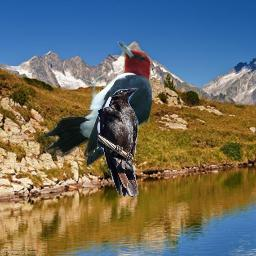Crow: (97, 87, 139, 197)
Woodpecker: (42, 41, 152, 167)
